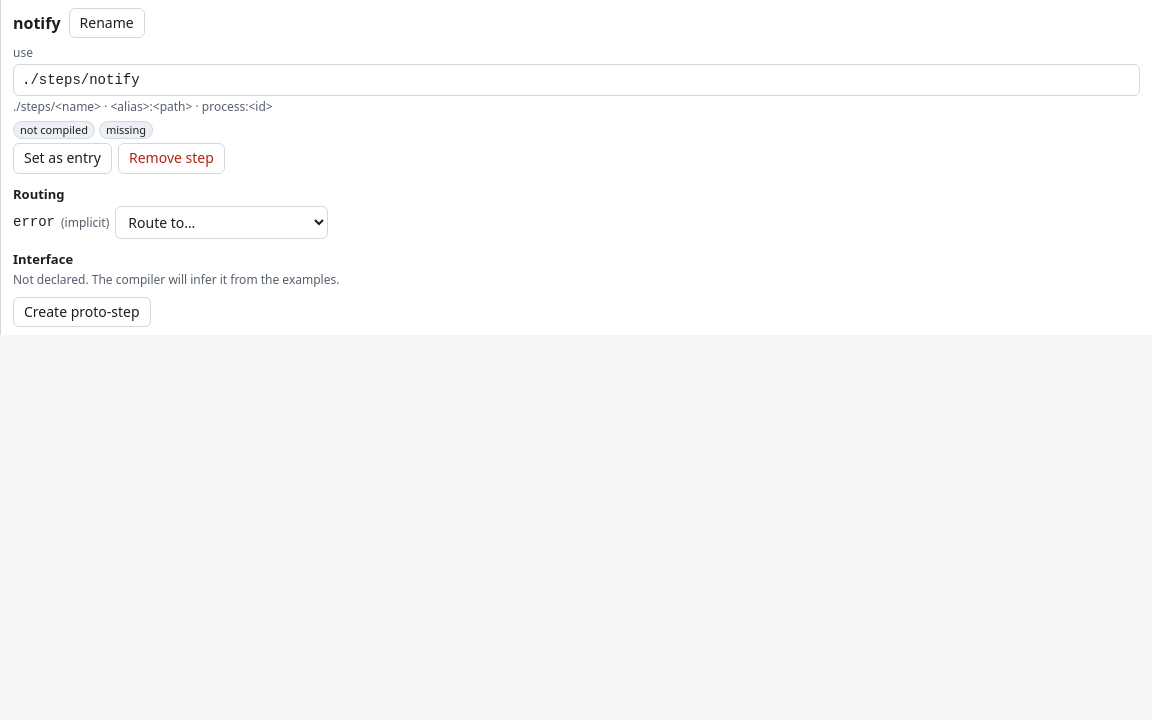
it: StepInspector › offers to create a proto-step for a local step without one
Step 1. Click the button "Create proto-step" → (82, 312), box [13,296,151,327]
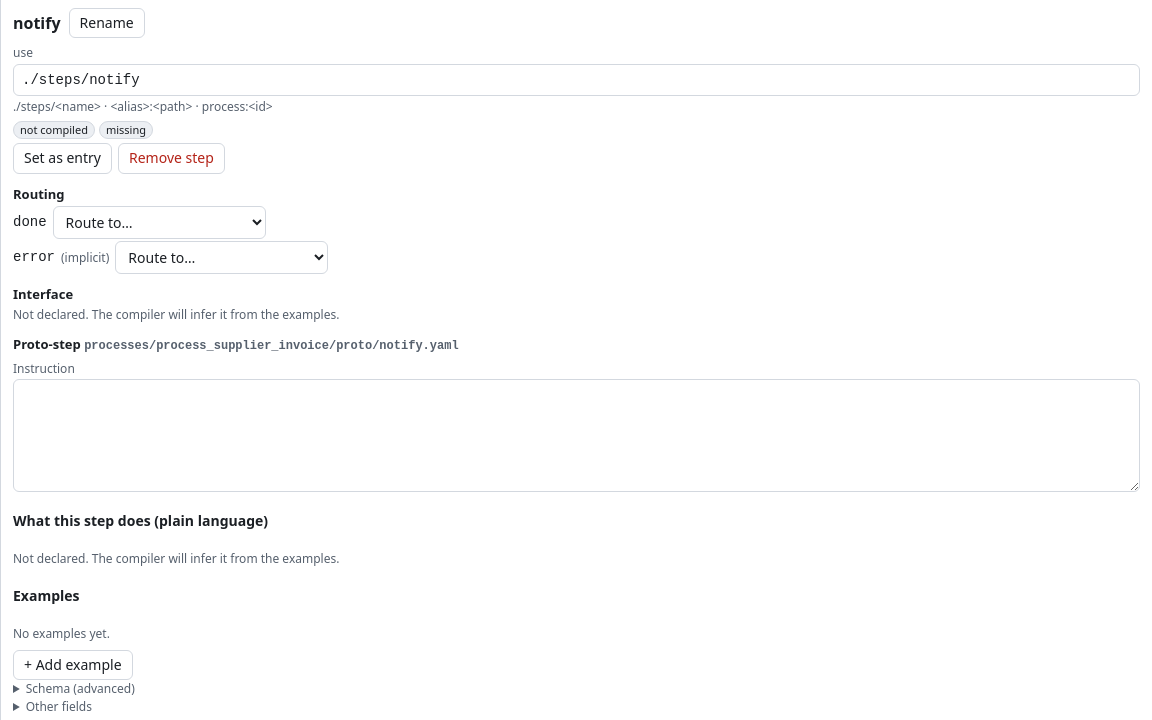
expect the element "Proto-step" is shown: met, box [13,336,1140,715]
